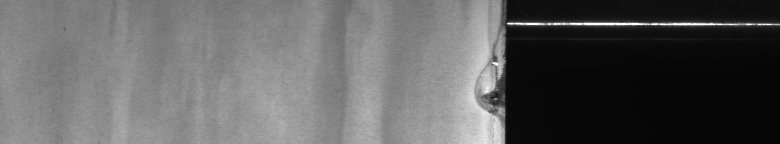hb: (468, 4, 496, 128)
